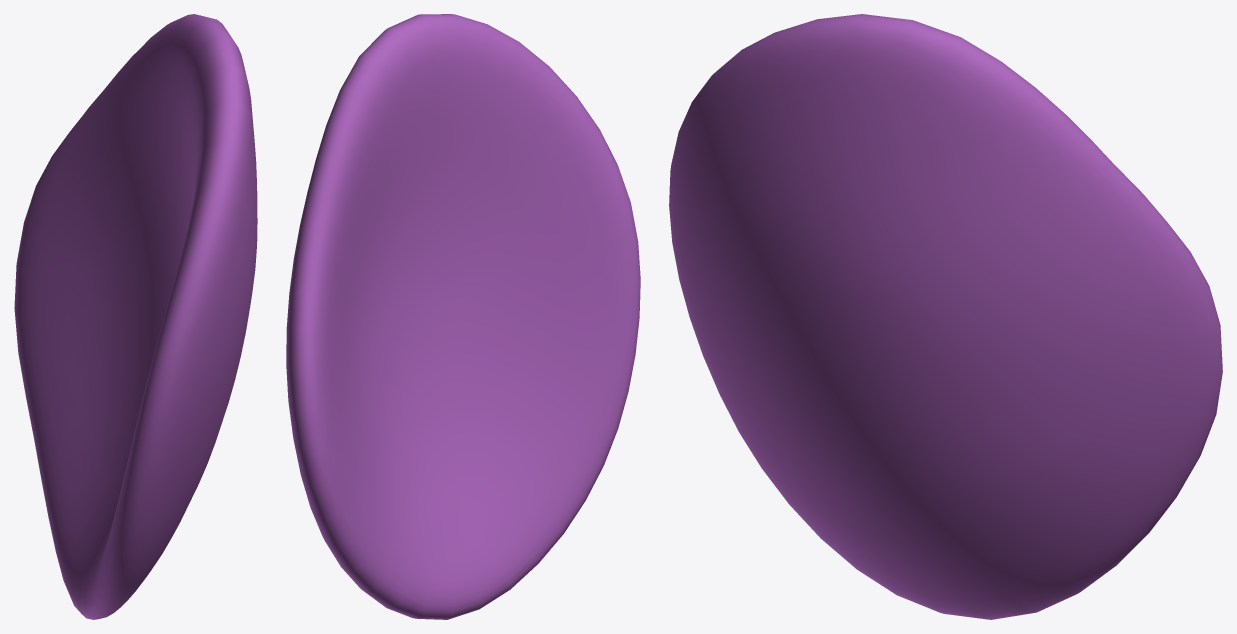
File: TR5_Enamel_Diamond.001.glb
The picture shows the model from 3 angles, left to right: view 1: azimuth 30°, elevation 25°; view 2: azimuth 150°, elevation 25°; view 3: azimuth 270°, elevation 25°; orthographic projection. The views are drawn at different scales.
Visible parts, largest first — view 1: TR5_Enamel_Diamond.001; view 2: TR5_Enamel_Diamond.001; view 3: TR5_Enamel_Diamond.001.
Boxes of the visible parts, box(x1,y1,x2,y2) form: TR5_Enamel_Diamond.001: box(14, 14, 257, 619); TR5_Enamel_Diamond.001: box(286, 14, 640, 619); TR5_Enamel_Diamond.001: box(669, 14, 1222, 619).
Bounding box in the file's own units: 0.2937 × 0.7875 × 0.6092.
